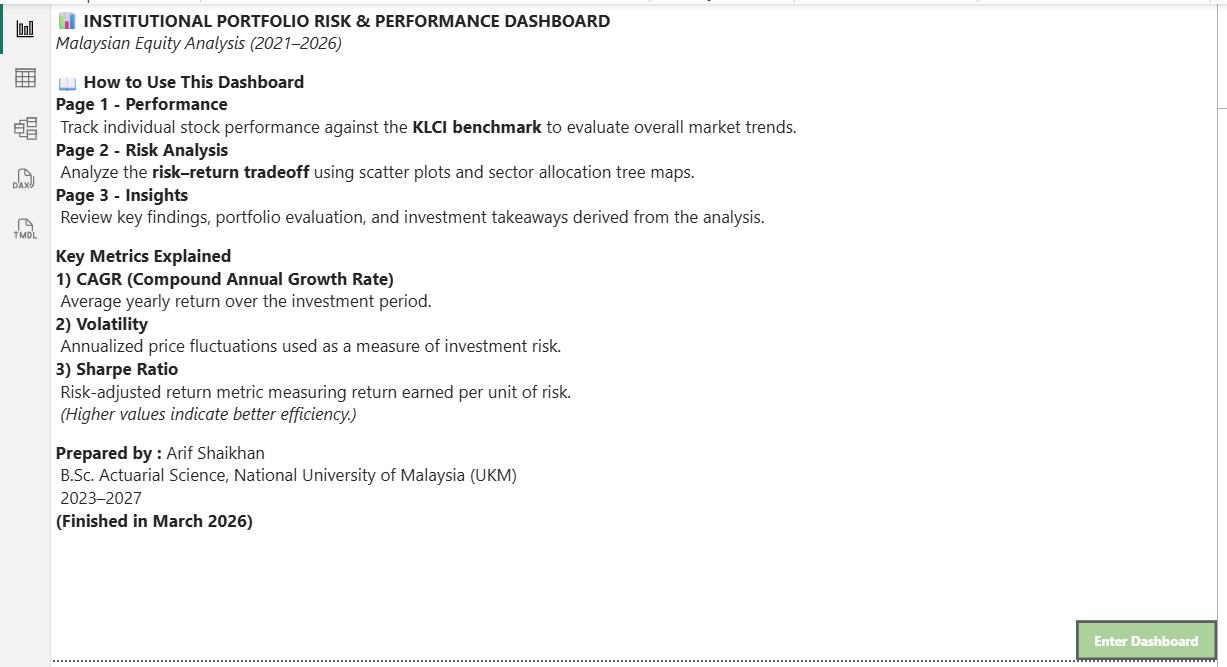

Layout of this report page (visuals, bound fields, positions):
{"tool":"powerbi","page":{"name":"Cover","canvas":[1280,720],"ordinal":0},"visuals":[{"type":"textbox","box":[0,0,838.4,601],"z":0},{"type":"actionButton","box":[1125.2,676.5,155.1,43.9],"z":1000}]}

Visuals, with their boxes on the page's 1280x720 design canvas (x1, y1, x2, y2). These are canvas units, not pixel positions in the 1227x667 screenshot, which may show the page scaled, cropped or inside an application window:
textbox: BBox(0, 0, 838, 601)
actionButton: BBox(1125, 676, 1280, 720)
